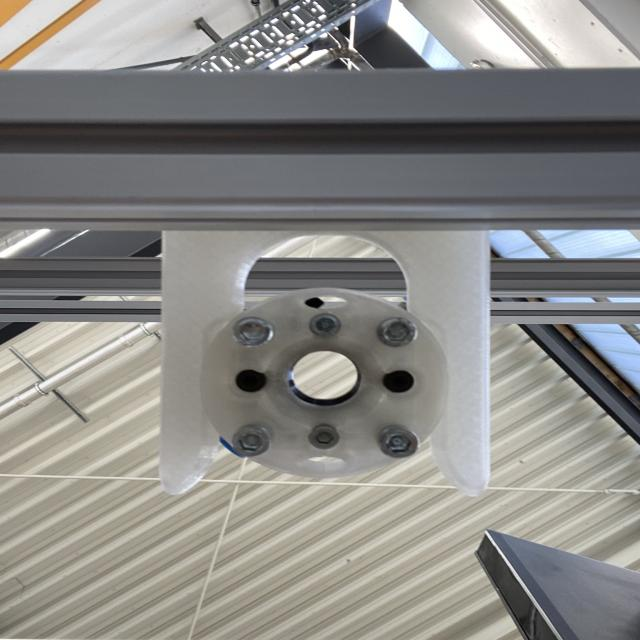Hex Socket Allen: (233, 317, 273, 347), (377, 318, 418, 347), (379, 428, 418, 458), (232, 428, 268, 457), (310, 314, 342, 337), (309, 426, 339, 450)
